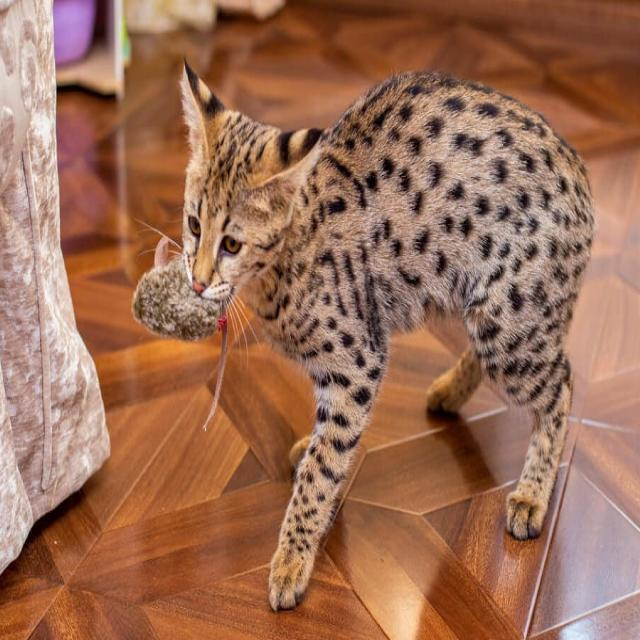Savannah: (176, 52, 598, 614)
